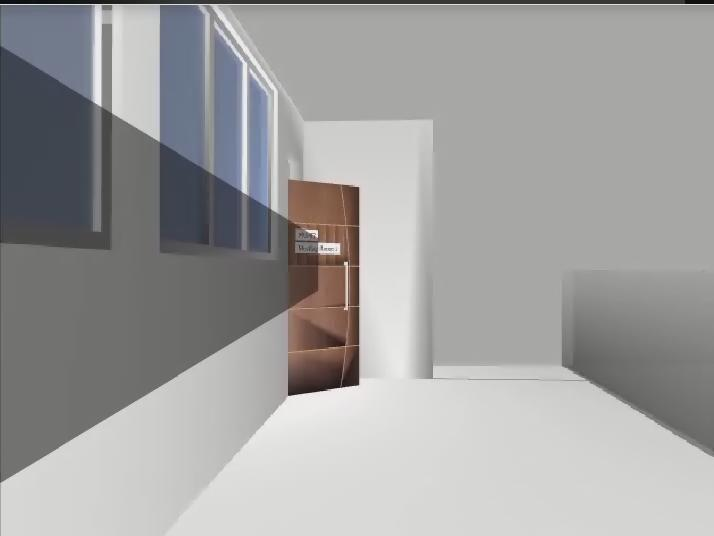door: (288, 179, 359, 396)
